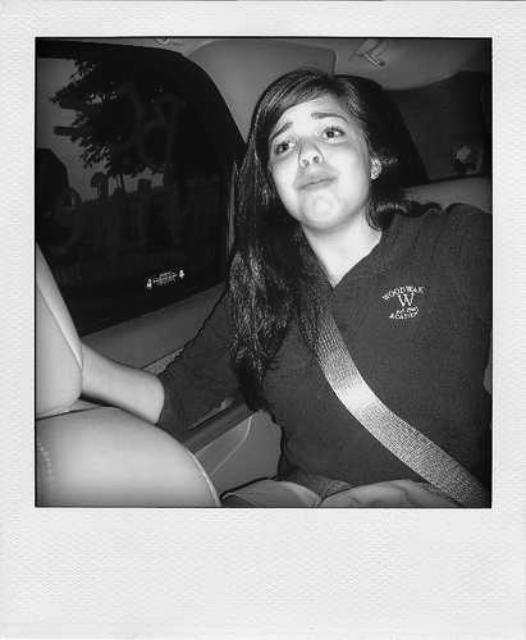SafeDriving: (313, 115, 352, 146), (268, 131, 300, 159)
Seatbelt: (294, 270, 490, 510)
